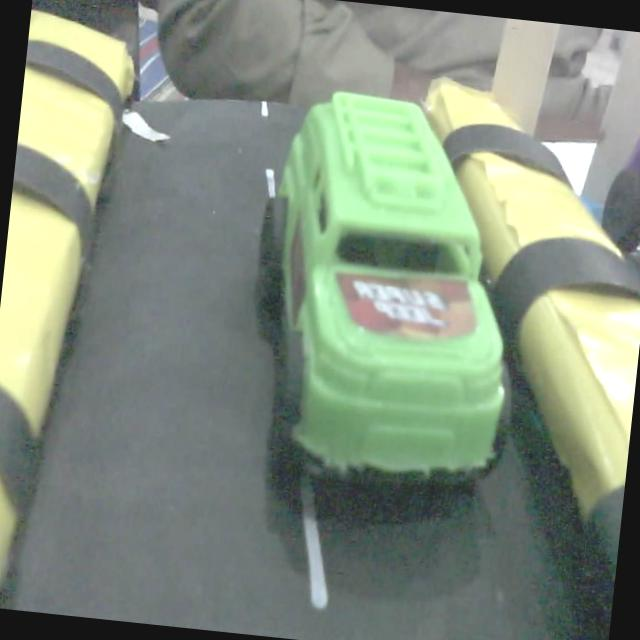OneCar: (257, 92, 509, 482)
